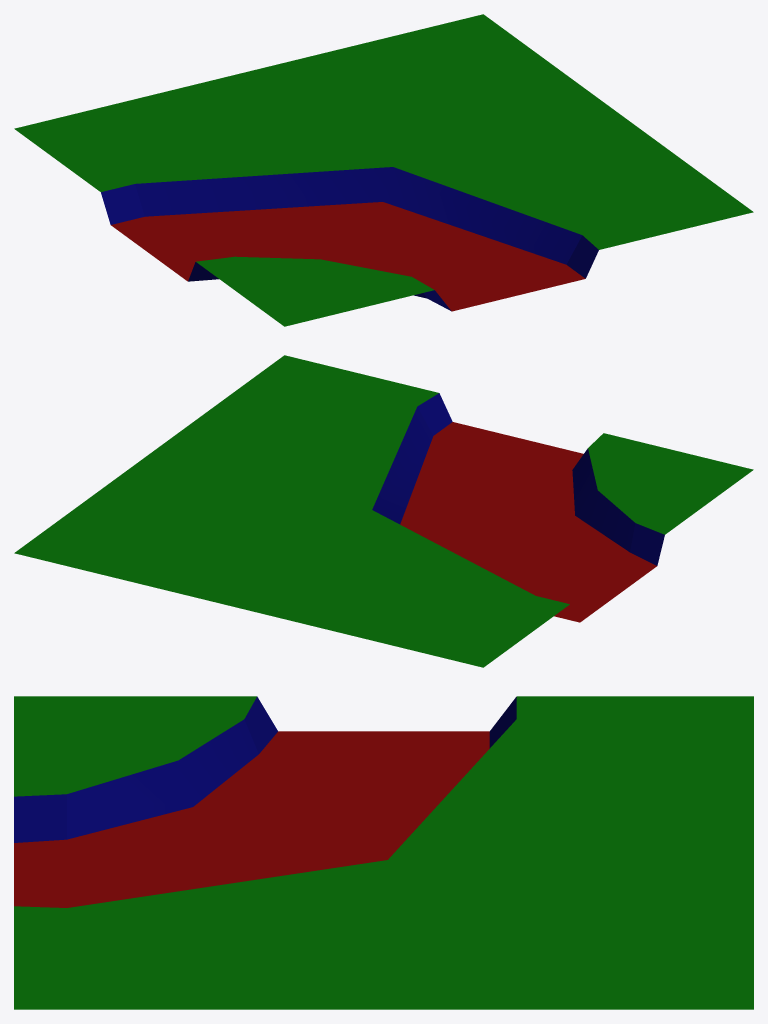
Rendered from TurnRoad_v3.fbx.
The picture shows the model from 3 angles, top to bottom: view 1: azimuth 30°, elevation 25°; view 2: azimuth 150°, elevation 25°; view 3: azimuth 270°, elevation 25°; orthographic projection. The views are drawn at different scales.
Visible parts, largest first — view 1: TurnRoad; view 2: TurnRoad; view 3: TurnRoad.
Part boxes in pixels (left/top/right/bottom): TurnRoad: left=14, top=14, right=753, bottom=326; TurnRoad: left=14, top=355, right=753, bottom=667; TurnRoad: left=14, top=696, right=753, bottom=1009.
Size of the model in its own units: 7.01 by 0.3659 by 7.
